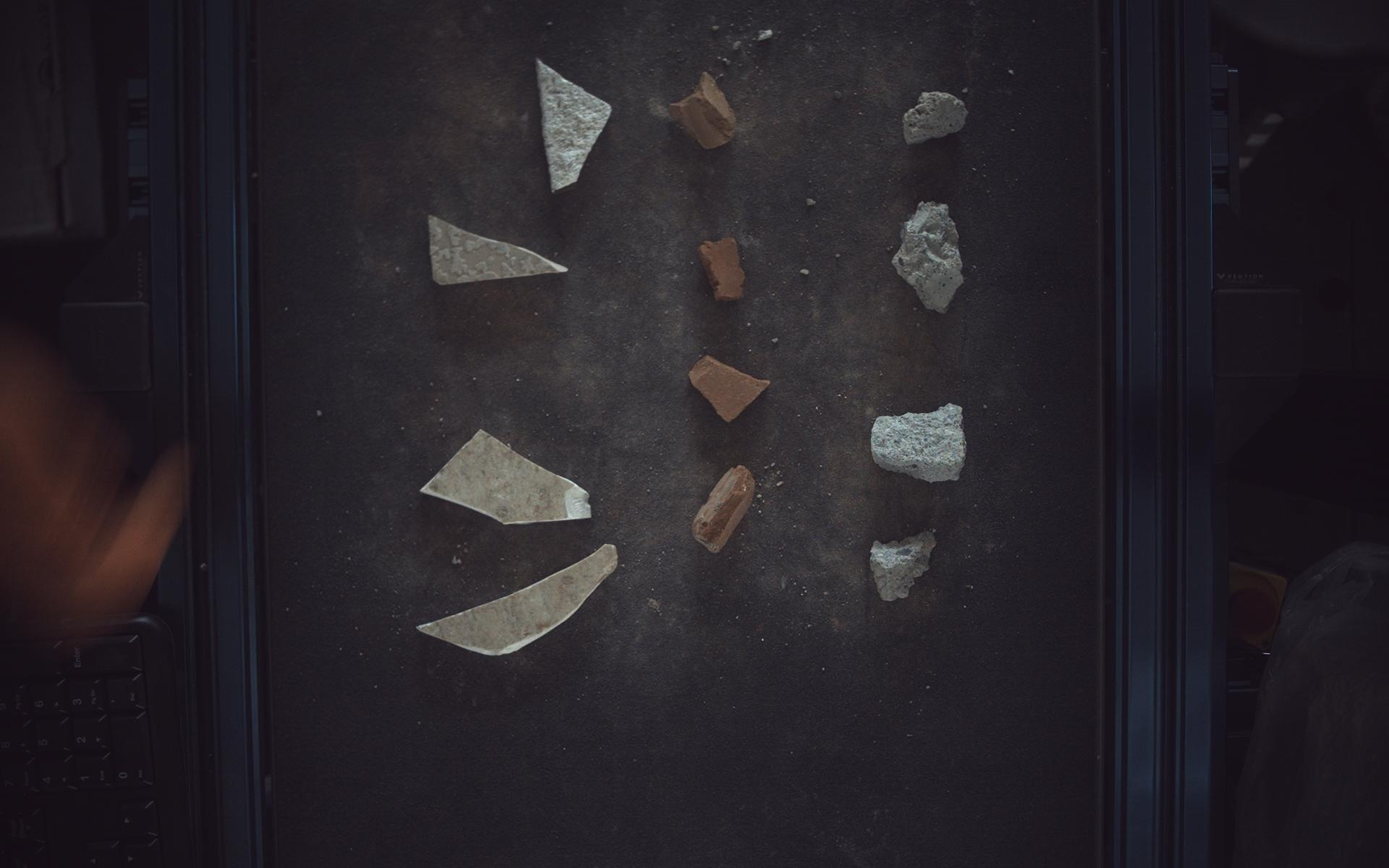brick: (693, 466, 757, 553), (690, 356, 771, 422), (669, 71, 737, 148), (700, 237, 746, 301)
concrete: (894, 202, 966, 312), (872, 404, 968, 482), (872, 531, 938, 602), (905, 91, 969, 143)
tile: (417, 545, 619, 656), (420, 430, 592, 525), (537, 58, 612, 191), (428, 214, 568, 284)
